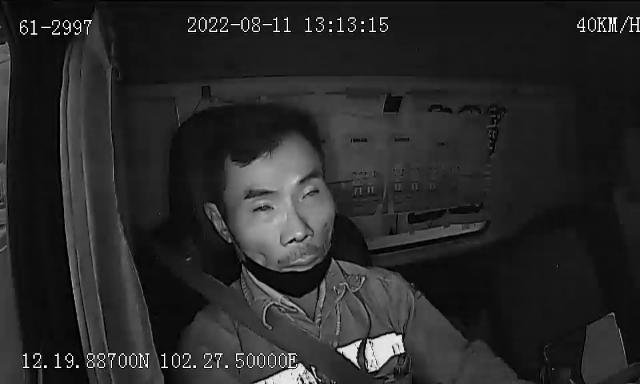SafeDriving: (417, 95, 460, 122), (294, 176, 326, 209), (247, 194, 281, 216)
Seatbelt: (171, 258, 389, 384)
